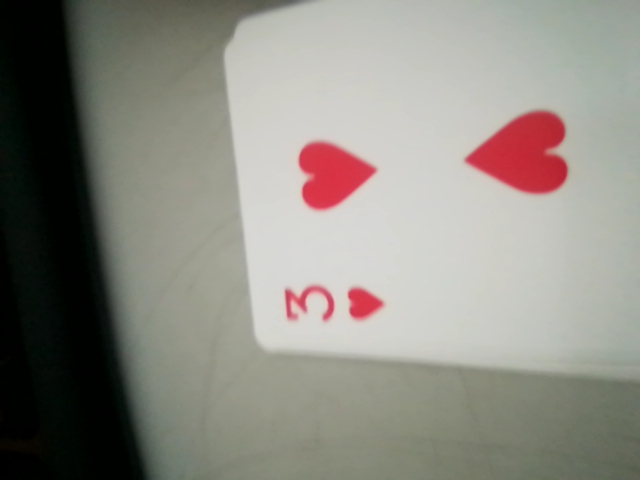hx 3: (271, 267, 402, 339)
